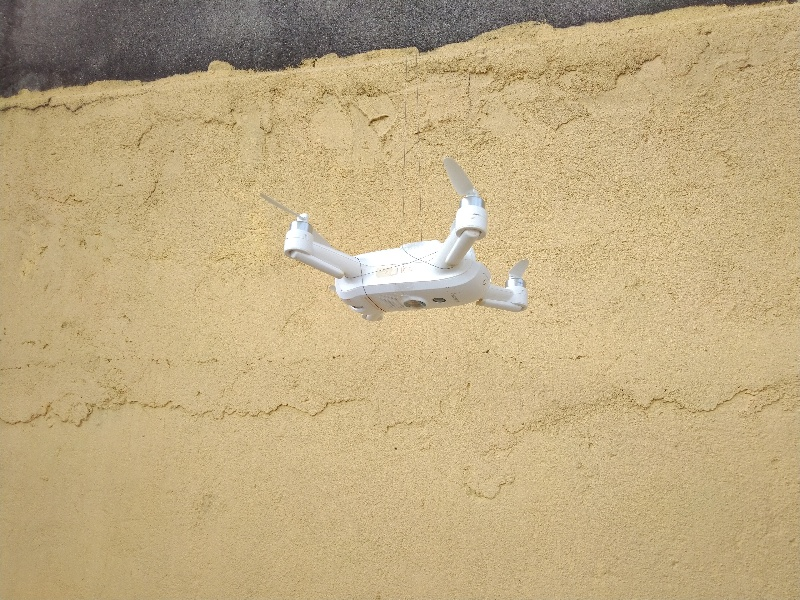drone: (264, 178, 543, 331)
